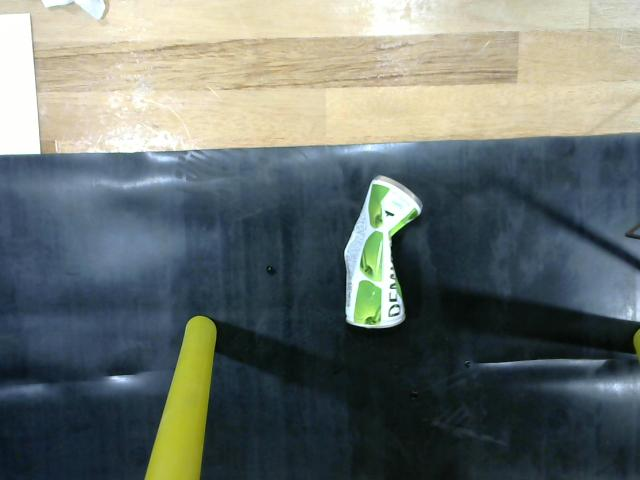can: (334, 169, 436, 339)
